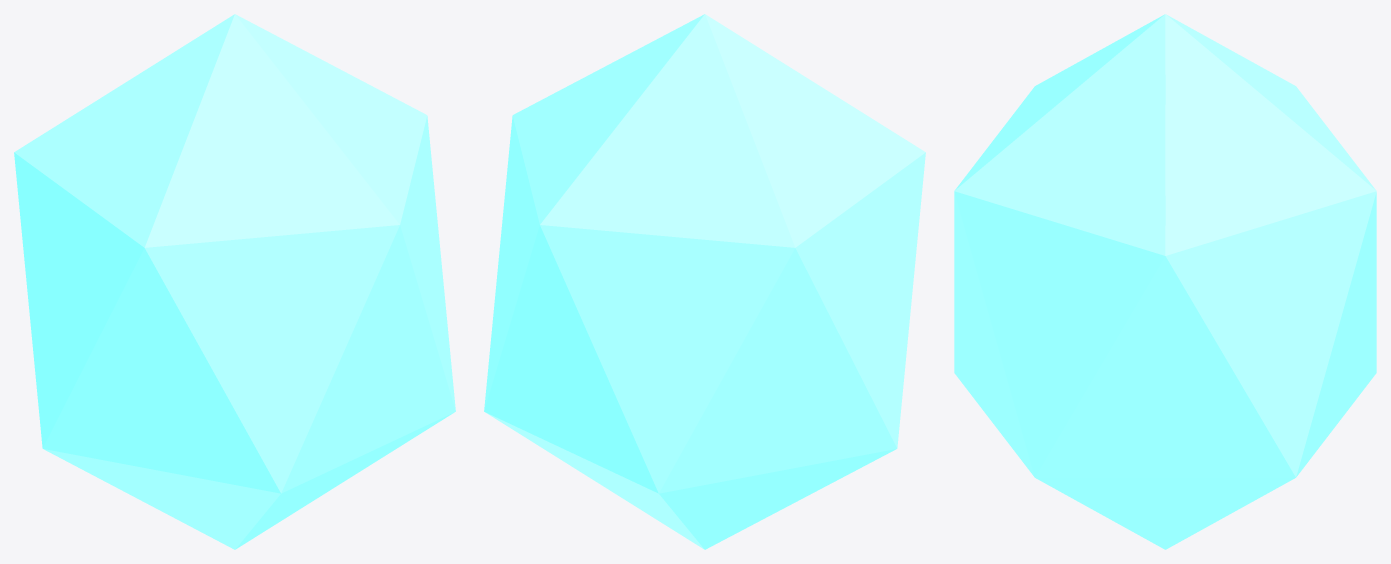
The model's file is crystal2.glb.
The picture shows the model from 3 angles, left to right: view 1: azimuth 30°, elevation 25°; view 2: azimuth 150°, elevation 25°; view 3: azimuth 270°, elevation 25°; orthographic projection.
Parts seen in each view (by area): view 1: CrystalGem; view 2: CrystalGem; view 3: CrystalGem.
Part boxes in pixels (x1,y1,x2,y2): CrystalGem: (14, 14, 455, 549); CrystalGem: (484, 14, 925, 549); CrystalGem: (954, 14, 1376, 549).
Bounding box in the file's own units: 1.23 × 1.64 × 1.17.
